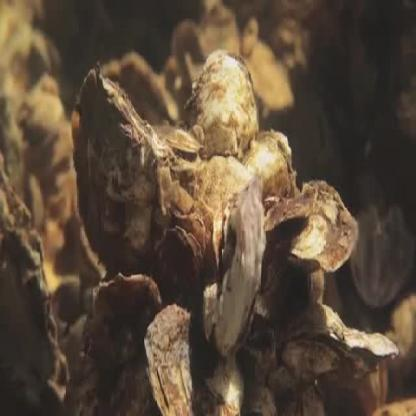3: (155, 226, 205, 312), (279, 332, 364, 381), (343, 330, 400, 363), (211, 205, 234, 275), (310, 107, 334, 161), (370, 363, 391, 412)
Oyster-Closed: (72, 66, 170, 276), (0, 141, 71, 404), (212, 185, 268, 362), (144, 304, 208, 416), (153, 123, 201, 153)
Oyster-Open: (180, 49, 261, 161), (264, 182, 360, 273), (94, 274, 165, 366), (101, 53, 180, 125), (177, 157, 252, 230), (244, 130, 297, 199), (244, 43, 295, 109), (207, 357, 244, 415), (200, 9, 240, 56), (171, 22, 201, 70)
